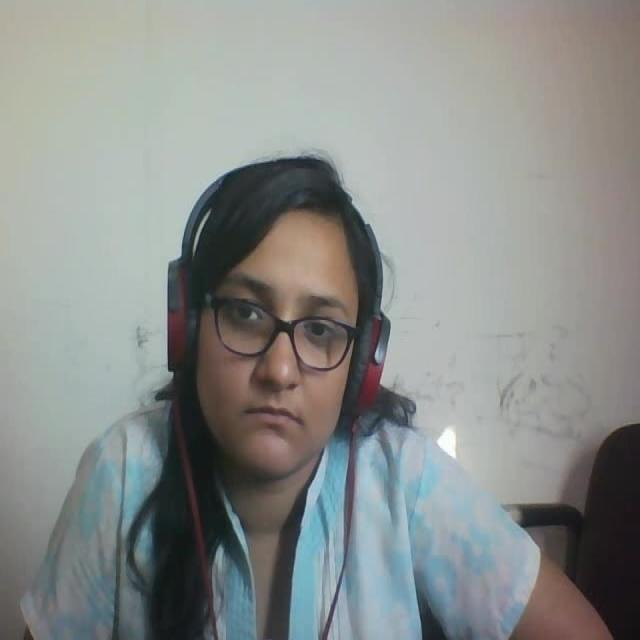Engaged: (161, 140, 419, 498)
